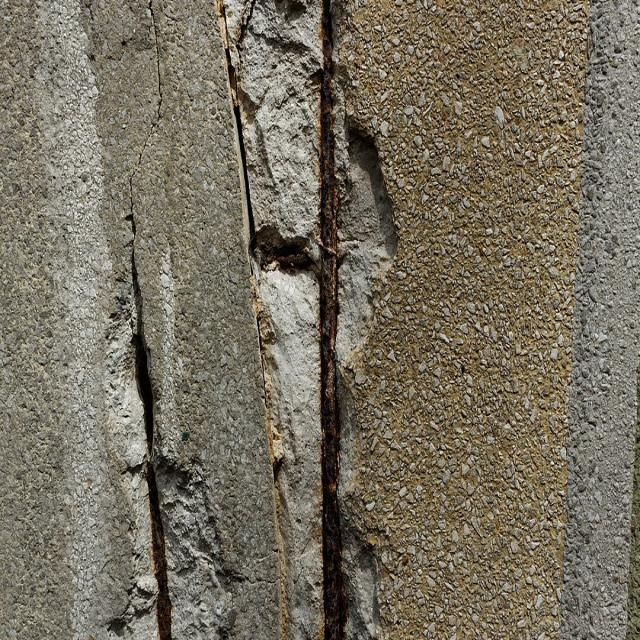Spalling: (214, 1, 398, 639)
corrosion: (318, 0, 345, 639)
